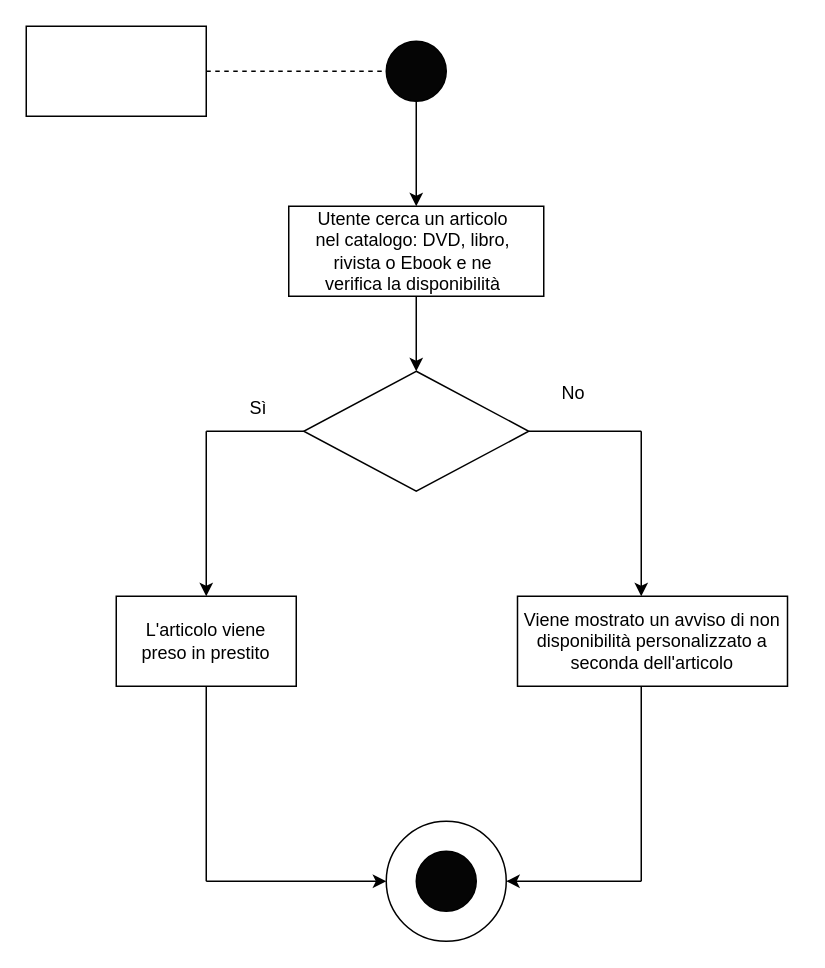
This 825x968 diagram has some shape labels left out. The shapes that lost their labels are listed below. From the top down, each one's box as (x1, y1, x2, y2) in pixels, then its label:
(25, 25, 206, 116): Parte il programma
(302, 370, 529, 491): è disponibile?
